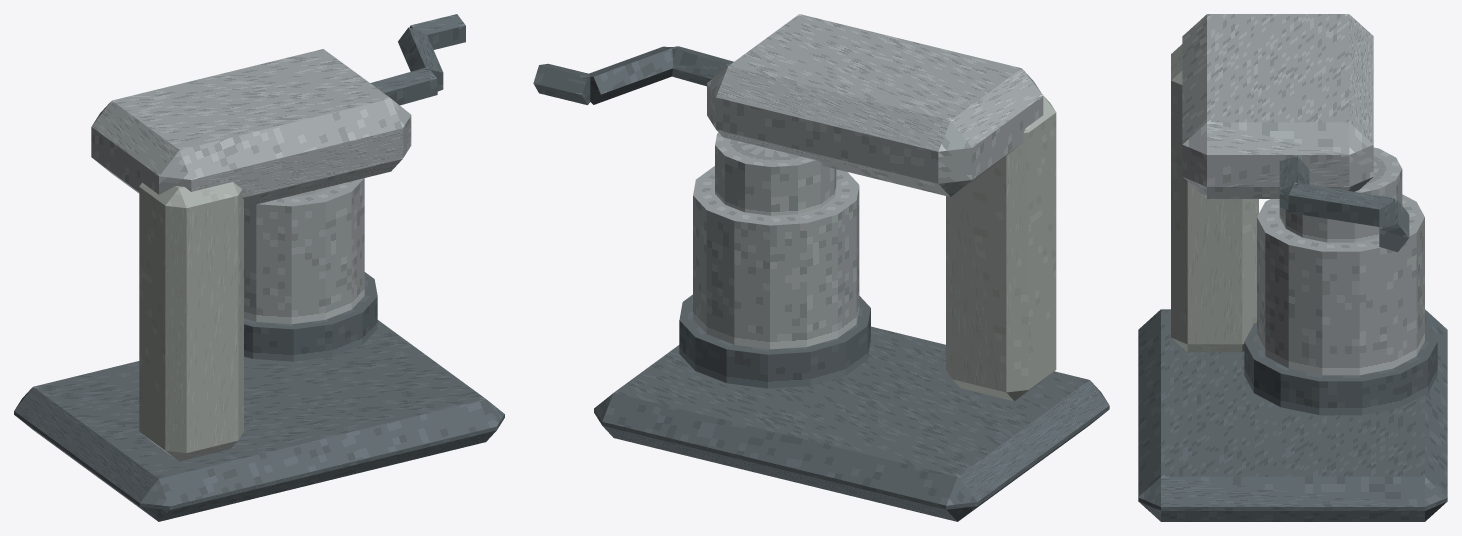
Rendered from can_sealer.glb.
The picture shows the model from 3 angles, left to right: view 1: azimuth 30°, elevation 25°; view 2: azimuth 150°, elevation 25°; view 3: azimuth 270°, elevation 25°; orthographic projection. The views are drawn at different scales.
Parts seen in each view (by area): view 1: block_cast base, block_cast gearbox head, block_upright support, block_display tin can, block_tin size adapter, block_rotating crank 0, block_rotating crank 1, block_rotating crank 2; view 2: block_cast base, block_cast gearbox head, block_upright support, block_display tin can, block_tin size adapter, block_round sealing head, block_rotating crank 1, block_rotating crank 2, block_rotating crank 0; view 3: block_cast base, block_cast gearbox head, block_display tin can, block_upright support, block_tin size adapter, block_round sealing head, block_rotating crank 1, block_rotating crank 2, block_rotating crank 0.
Part boxes in pixels (x1,y1,x2,y2): block_cast base: [14, 320, 504, 521]; block_cast gearbox head: [91, 49, 411, 207]; block_upright support: [139, 182, 243, 461]; block_display tin can: [244, 178, 364, 324]; block_tin size adapter: [244, 272, 377, 361]; block_rotating crank 0: [370, 67, 437, 105]; block_rotating crank 1: [398, 27, 443, 91]; block_rotating crank 2: [409, 14, 465, 49]; block_cast base: [594, 326, 1109, 521]; block_cast gearbox head: [707, 14, 1043, 196]; block_upright support: [946, 94, 1056, 401]; block_display tin can: [693, 166, 859, 349]; block_tin size adapter: [679, 294, 870, 388]; block_round sealing head: [715, 132, 836, 215]; block_rotating crank 1: [589, 46, 674, 104]; block_rotating crank 2: [533, 63, 590, 105]; block_rotating crank 0: [669, 46, 733, 86]; block_cast base: [1138, 309, 1447, 521]; block_cast gearbox head: [1182, 14, 1373, 198]; block_display tin can: [1257, 194, 1424, 375]; block_upright support: [1171, 44, 1258, 352]; block_tin size adapter: [1244, 322, 1437, 415]; block_round sealing head: [1279, 147, 1402, 242]; block_rotating crank 1: [1288, 182, 1395, 226]; block_rotating crank 2: [1379, 200, 1409, 252]; block_rotating crank 0: [1279, 156, 1309, 209].
Size of the model in its own units: 0.3266 by 0.2506 by 0.194.
Materials: 1 (1 with a texture image).
